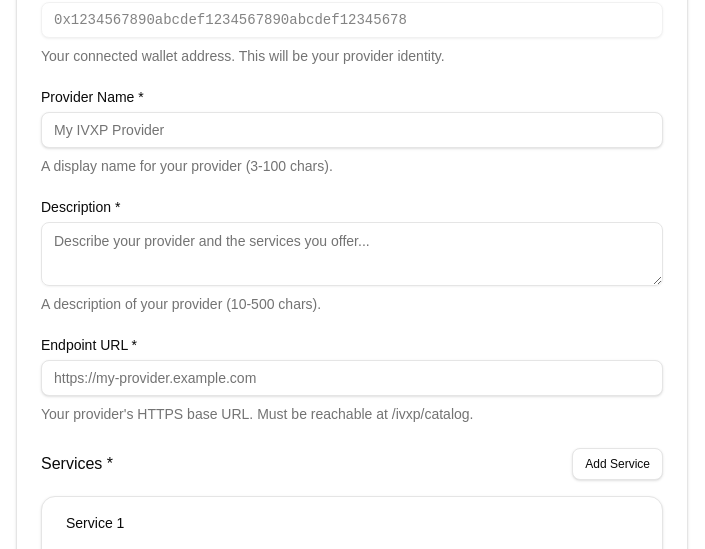
Test case: ProviderRegistrationForm › removes a service entry when 'Remove' is clicked (minimum 1 enforced)
Add a second service
Click the button with test id "add-service-button".
click(618, 464)  # box [572,448,663,480]
(page scrolled)
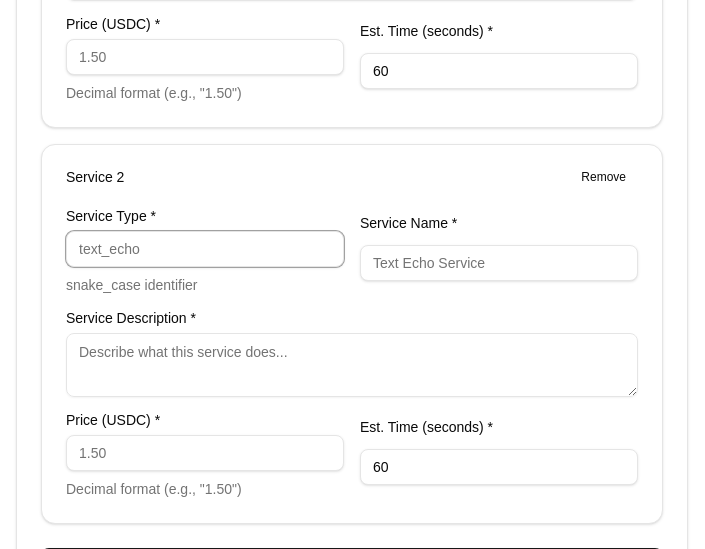
Check: the element with test id "service-entry-1" is shown
Check: the button with test id "remove-service-1" is shown
Remove the second service
Click the button with test id "remove-service-1".
click(604, 177)  # box [569,161,638,193]
(page scrolled)
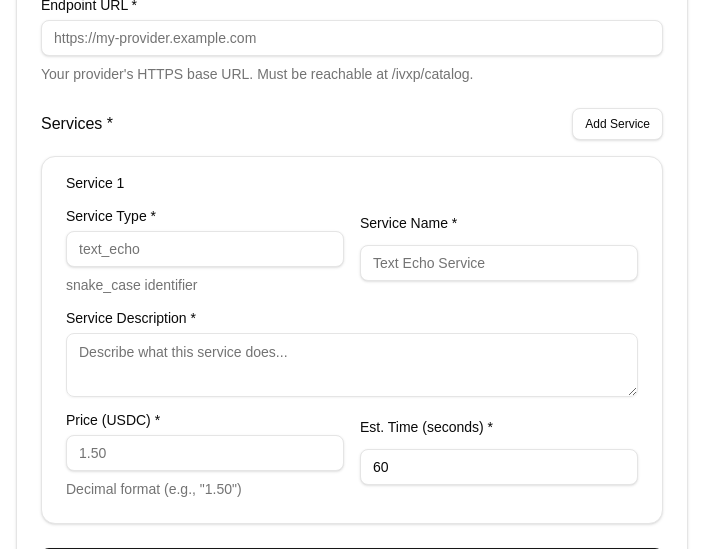
Check: the element with test id "service-entry-1" is gone
